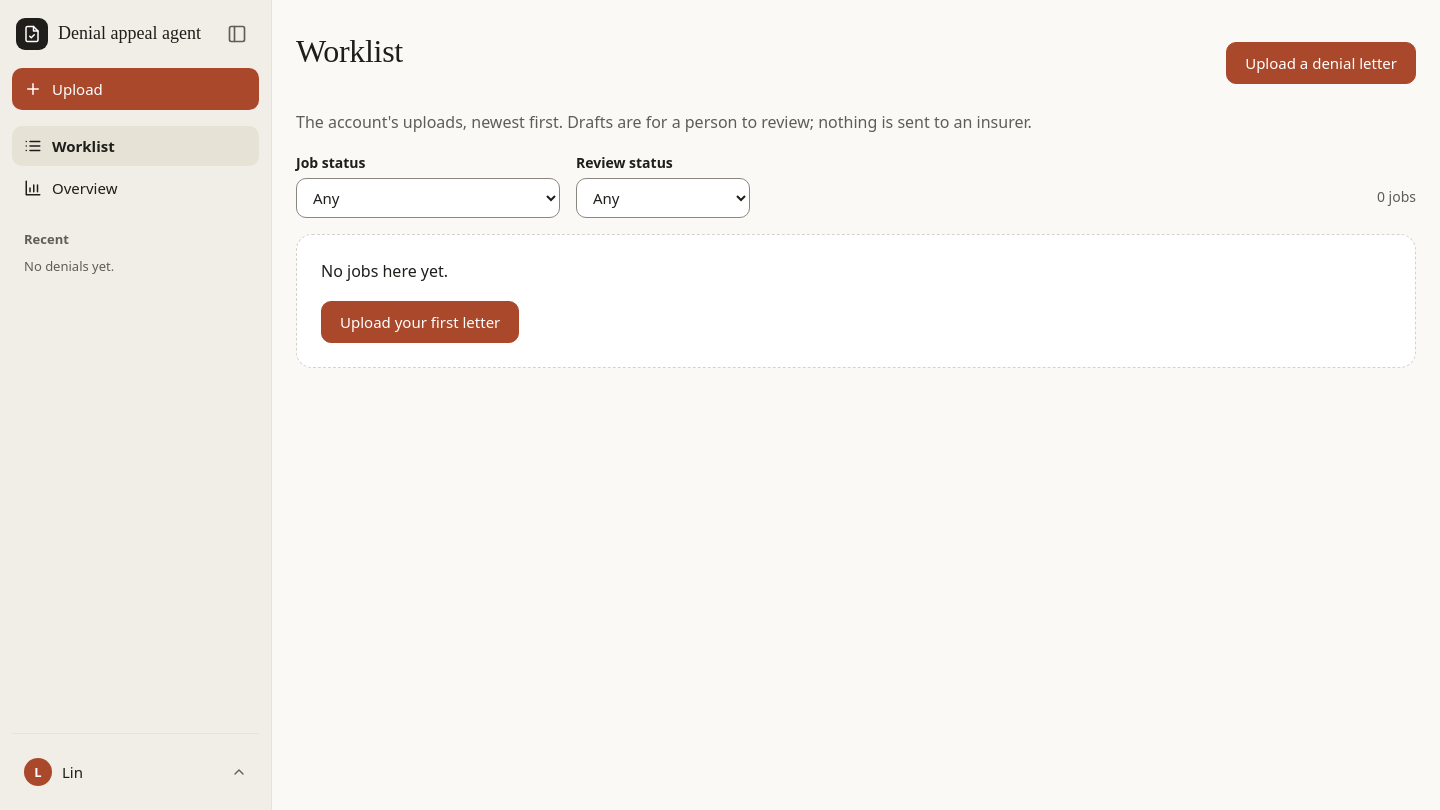
Test: AppLayout › shows Personal for an individual and never the made-up account name
Click the button "L Lin": x=136, y=772 [16,750,255,794]
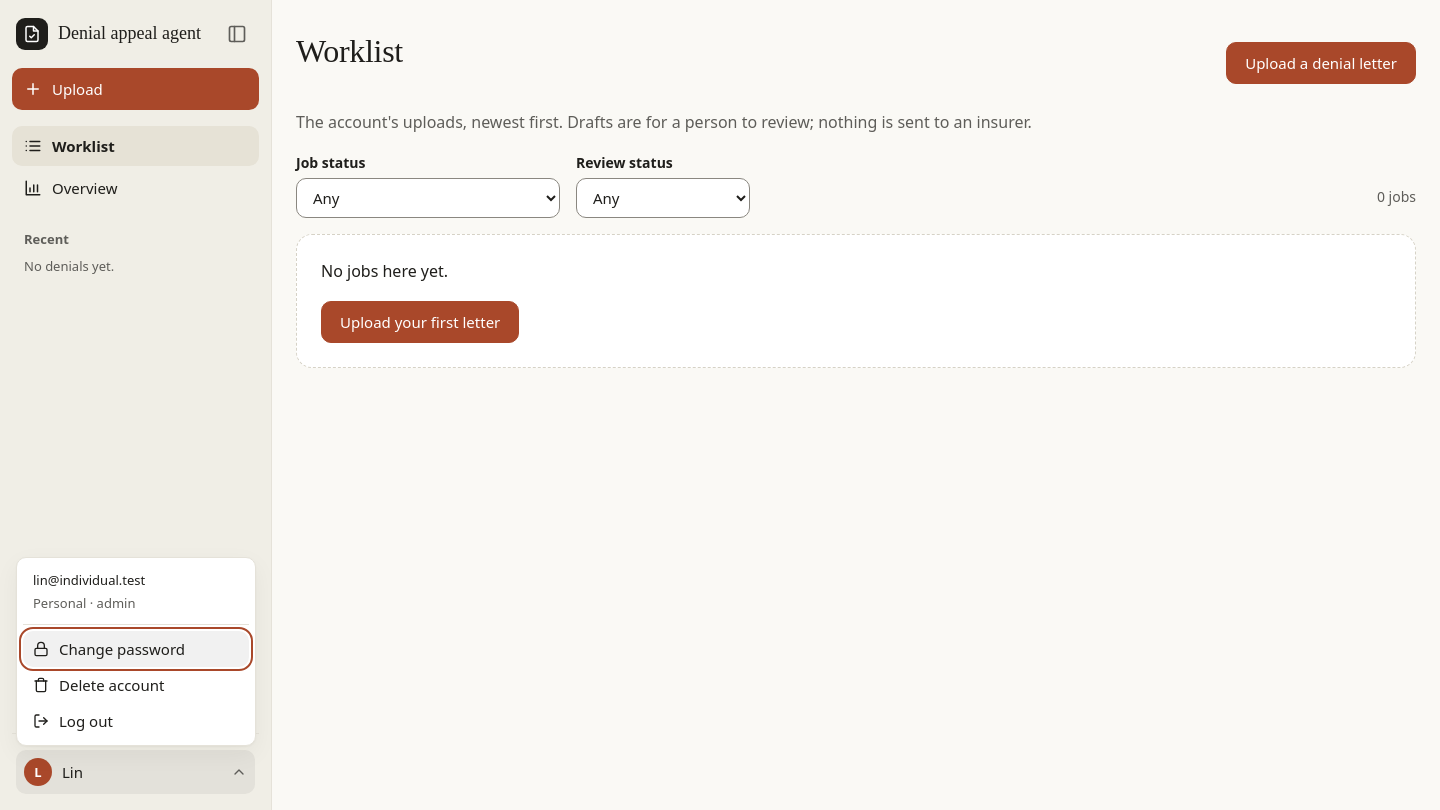
expect the text "Personal · admin" is shown: met, box [33,594,135,612]
